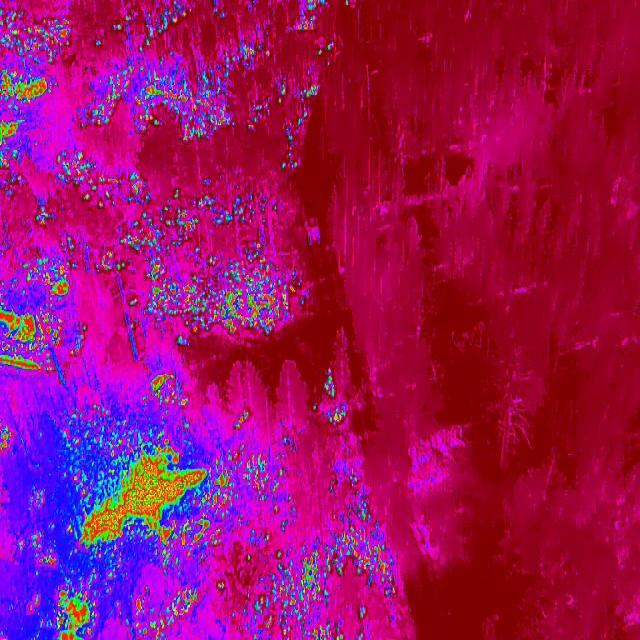fire: (100, 245, 300, 347), (72, 444, 234, 564), (268, 533, 402, 639), (78, 61, 238, 141), (119, 189, 284, 246), (54, 152, 154, 213), (0, 68, 50, 170), (0, 300, 63, 375), (0, 6, 74, 66), (125, 581, 199, 640), (114, 0, 194, 54), (46, 582, 104, 638), (23, 252, 79, 306), (232, 449, 286, 502), (138, 366, 192, 416), (295, 0, 337, 58), (324, 366, 350, 426), (18, 532, 60, 568), (225, 40, 268, 68), (346, 498, 378, 534), (275, 80, 323, 102), (228, 407, 260, 435), (30, 202, 56, 230), (0, 420, 13, 455), (213, 576, 228, 594)
